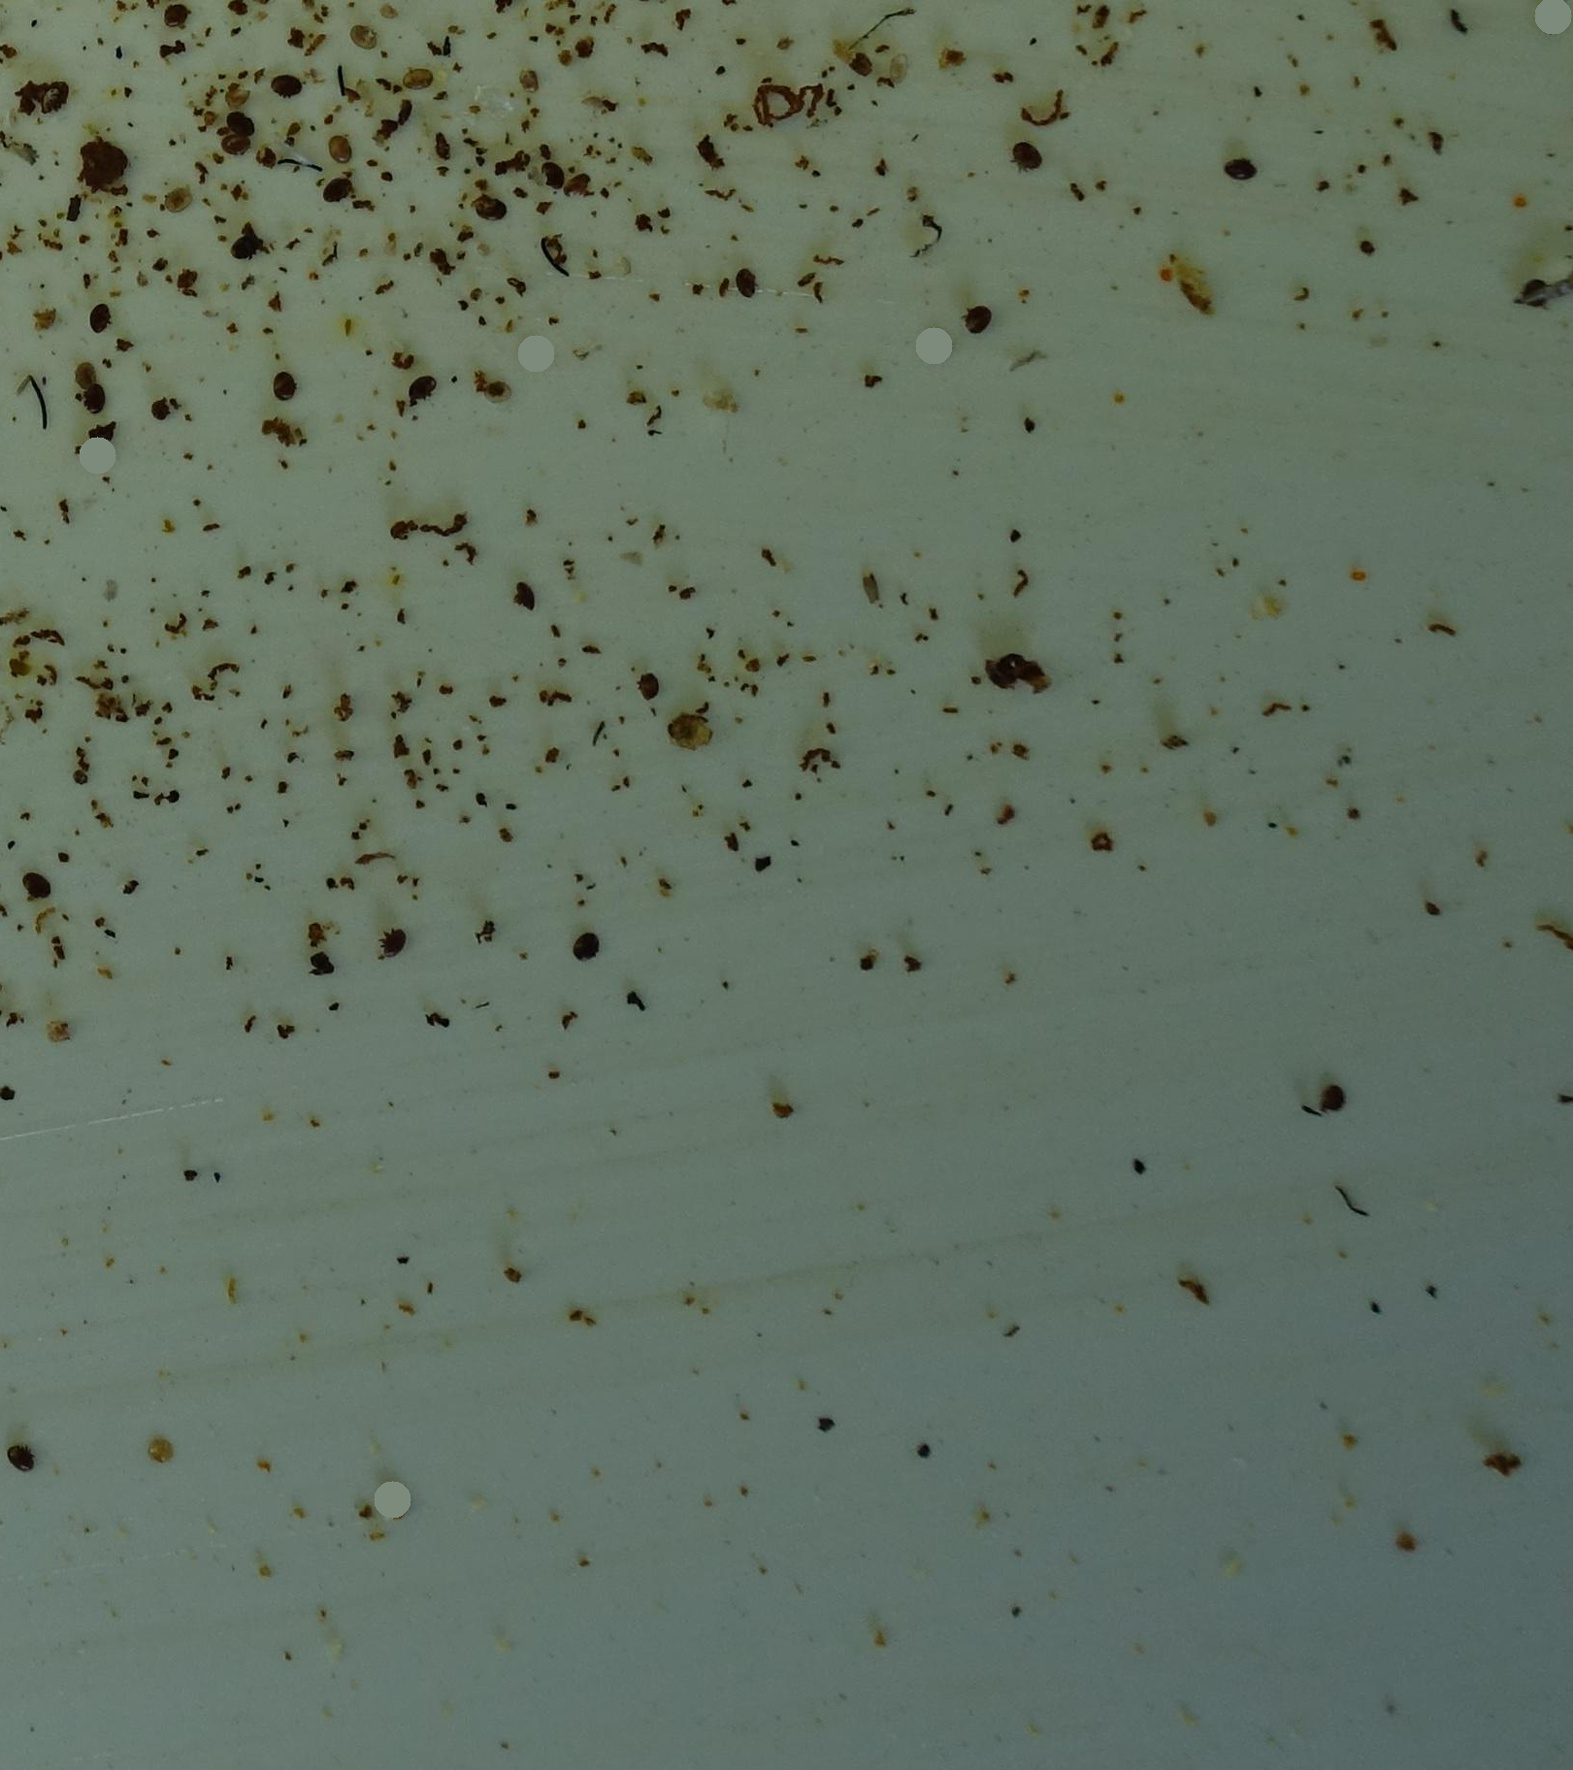Varroa: (399, 62, 430, 93), (80, 383, 109, 413), (225, 109, 251, 140), (545, 162, 571, 191), (635, 677, 662, 703), (509, 581, 534, 609), (415, 376, 440, 402), (481, 194, 507, 220), (1228, 156, 1254, 182), (231, 237, 257, 263), (317, 131, 343, 156), (1014, 143, 1039, 168), (266, 76, 290, 100), (386, 931, 411, 953), (320, 181, 345, 203), (966, 308, 988, 332), (736, 276, 759, 301), (14, 1444, 36, 1466), (270, 381, 292, 404), (162, 5, 185, 26), (26, 868, 49, 890), (88, 308, 109, 329), (575, 934, 597, 953)
